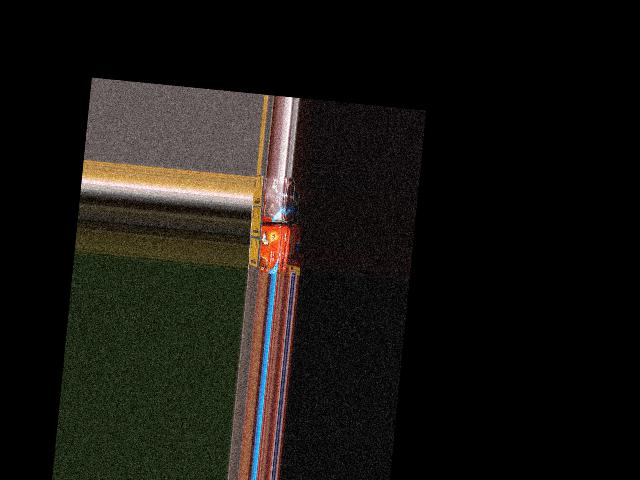chocolate: (257, 173, 288, 218)
